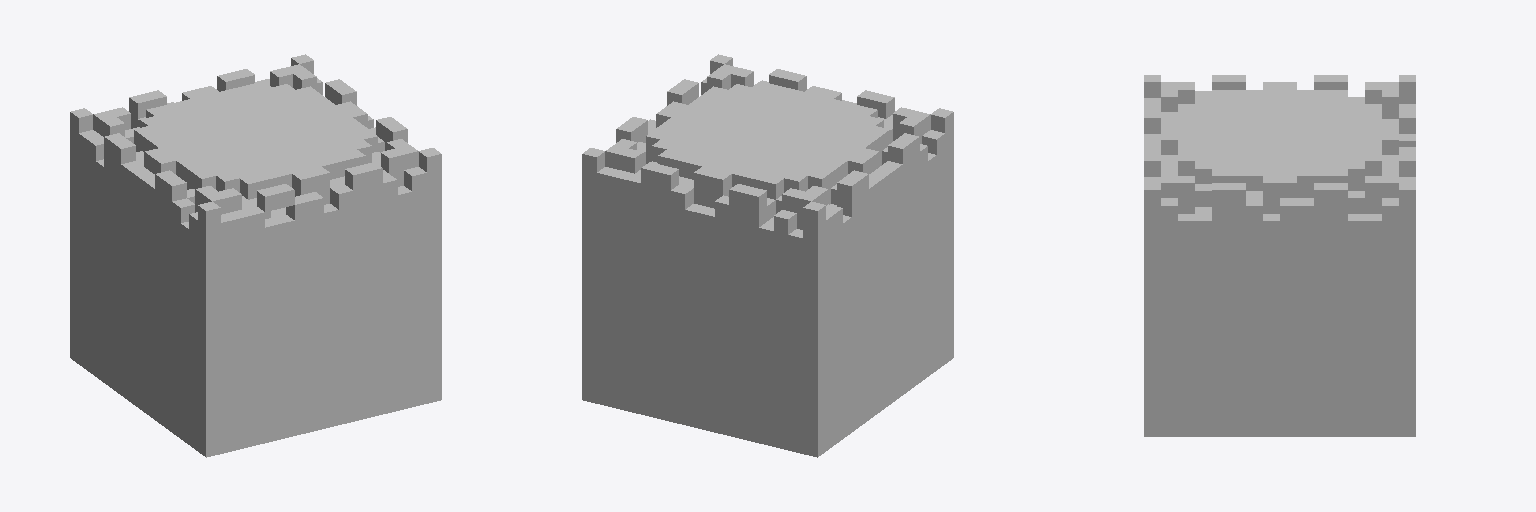
The model's file is middle box brown.obj.
3 views of the same model, side by side, from view 1: azimuth 30°, elevation 25°; view 2: azimuth 150°, elevation 25°; view 3: azimuth 270°, elevation 25° (orthographic).
Visible parts, largest first — view 1: object 1; view 2: object 1; view 3: object 1.
Part boxes in pixels (x1,y1,x2,y2): object 1: (70, 54, 441, 457); object 1: (582, 54, 953, 457); object 1: (1144, 75, 1415, 436).
Bounding box in the file's own units: 1.6 × 1.6 × 1.6.